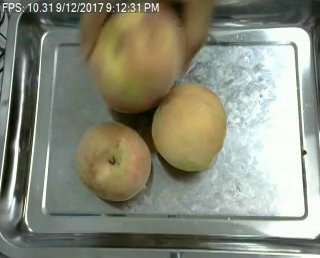Peach: (90, 3, 184, 113), (150, 83, 228, 171), (75, 121, 152, 202)
